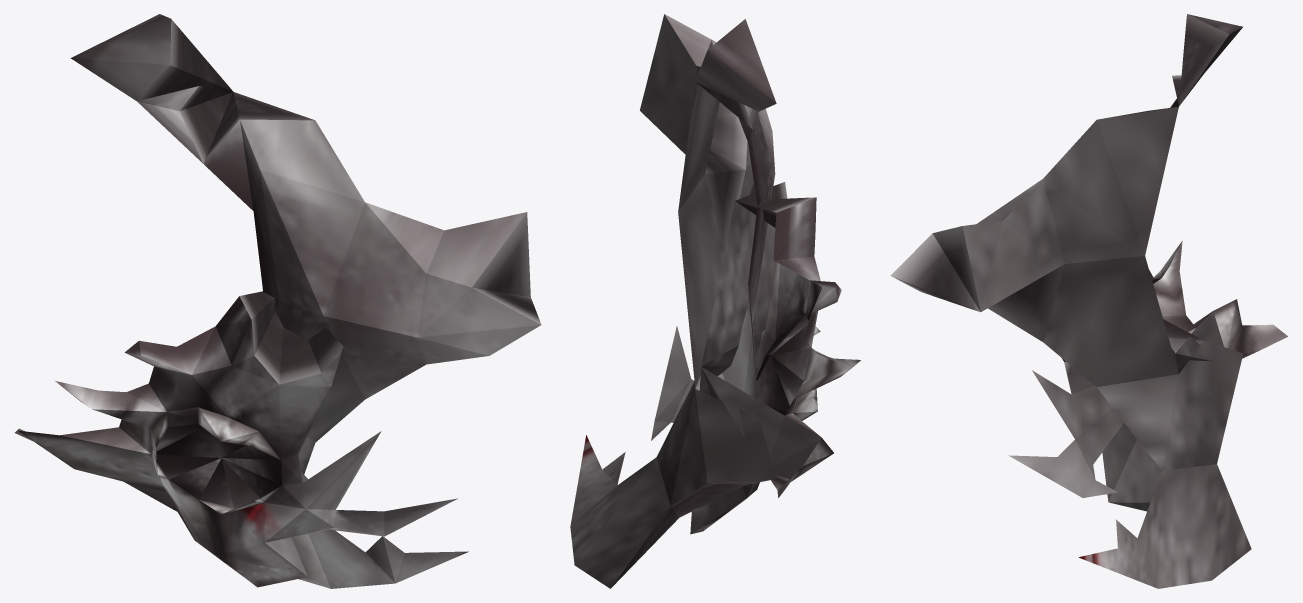
3 renders of one model, left to right at view 1: azimuth 30°, elevation 25°; view 2: azimuth 150°, elevation 25°; view 3: azimuth 270°, elevation 25°, orthographic. The views are drawn at different scales.
Visible parts, largest first — view 1: B_0064_2a_0; view 2: B_0064_2a_0; view 3: B_0064_2a_0.
Part boxes in pixels (bbox=[...]): B_0064_2a_0: bbox=[14, 14, 541, 588]; B_0064_2a_0: bbox=[570, 14, 860, 588]; B_0064_2a_0: bbox=[890, 14, 1287, 588].
Bounding box in the file's own units: 19.35 × 31.07 × 22.41.
Materials: 1 (1 with a texture image).
